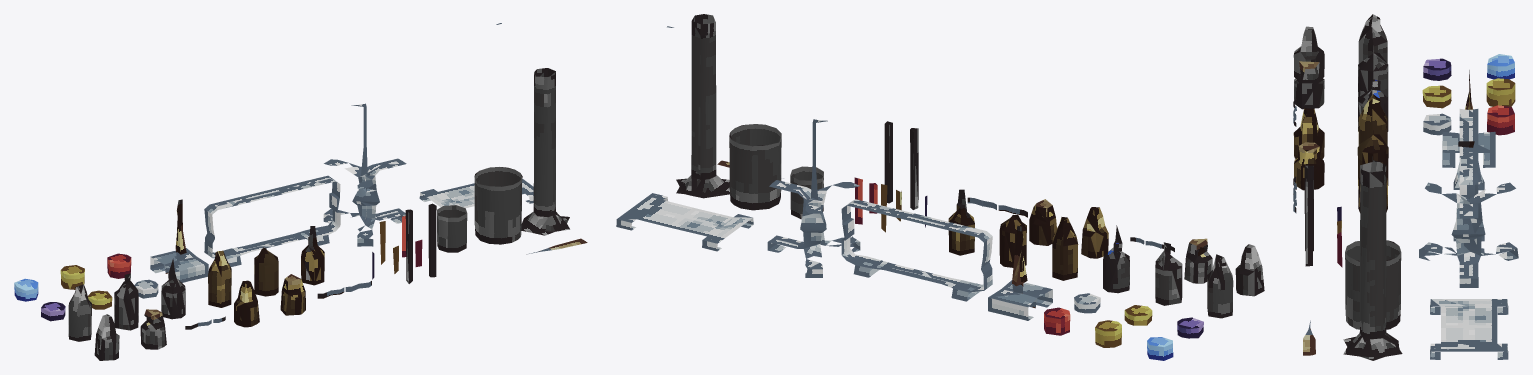
File: chemistry_set.glb
3 views of the same model, side by side, from view 1: azimuth 30°, elevation 25°; view 2: azimuth 150°, elevation 25°; view 3: azimuth 270°, elevation 25° (orthographic). The views are drawn at different scales.
Visible parts, largest first — view 1: mesh; view 2: mesh; view 3: mesh.
Part boxes in pixels (bbox=[...]): mesh: bbox=[14, 23, 587, 360]; mesh: bbox=[616, 14, 1264, 360]; mesh: bbox=[1293, 14, 1518, 360].
Bounding box in the file's own units: 1.26 × 0.429 × 0.4132.
1 material, 1 textured.
